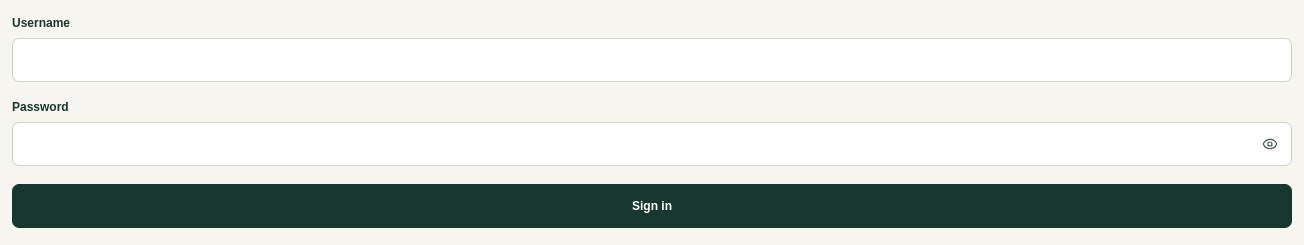
LoginForm › disables submission while sign-in is pending
The width and height of the screenshot is (1304, 245).
In the field labelled "Username": (652, 60) [12,38,1292,82], type "worker"
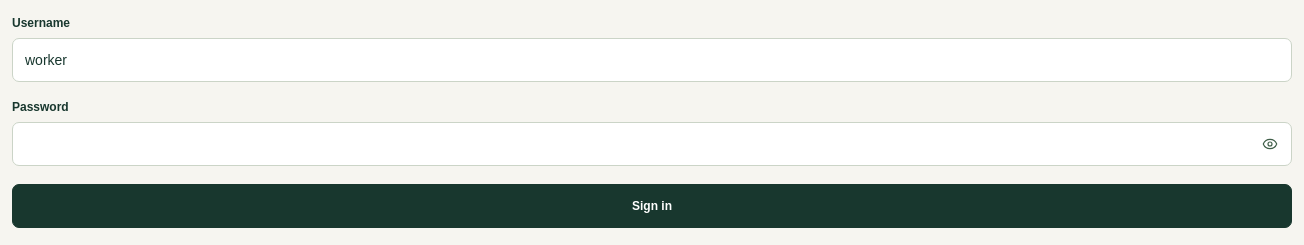
In the password field labelled "Password": (652, 144) [12,122,1292,166], type "test-only-password"
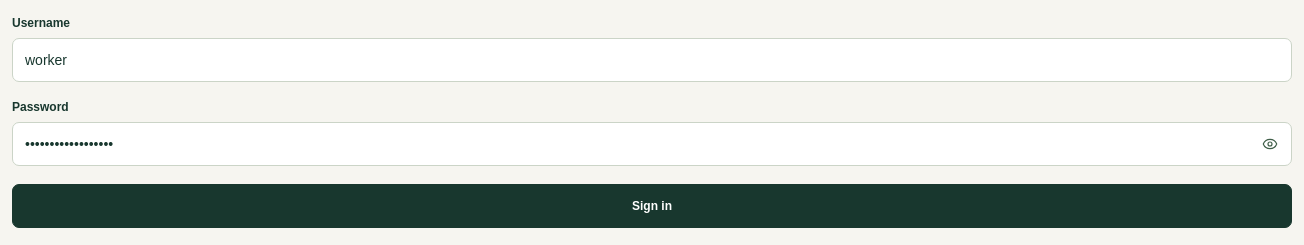
Submit the form "Sign in"
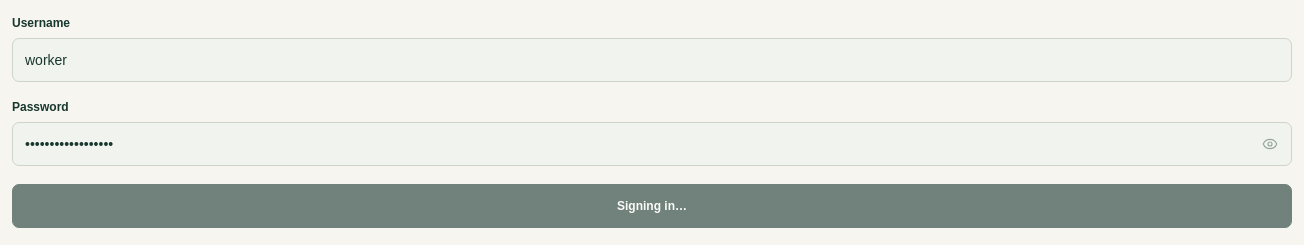
Now the button "Signing in…" is disabled, box [12,184,1292,228]
